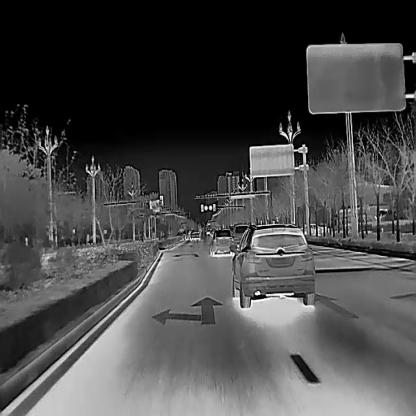car: (228, 221, 315, 308), (208, 227, 233, 255), (230, 222, 251, 252), (185, 228, 200, 239)
